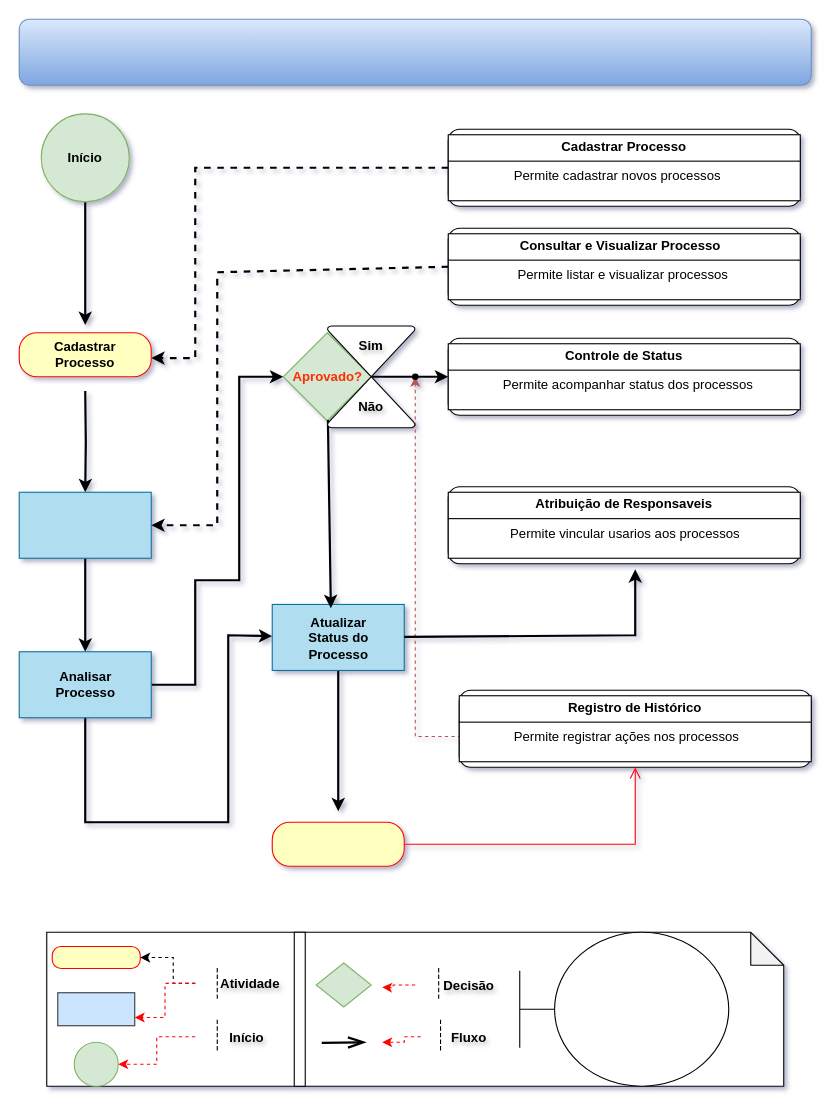
This 837x1112 diagram has some shape labels left out. The box of each missing label's shape, as (x1, y1, x2, y2) in pixels:
BPMN: (519, 931, 729, 1086)
Consultar e Visualizar Processo: (18, 491, 151, 558)
Corrigir Processo: (271, 821, 404, 866)
Funcionalidades Centrais do SGPD: (18, 18, 811, 85)
